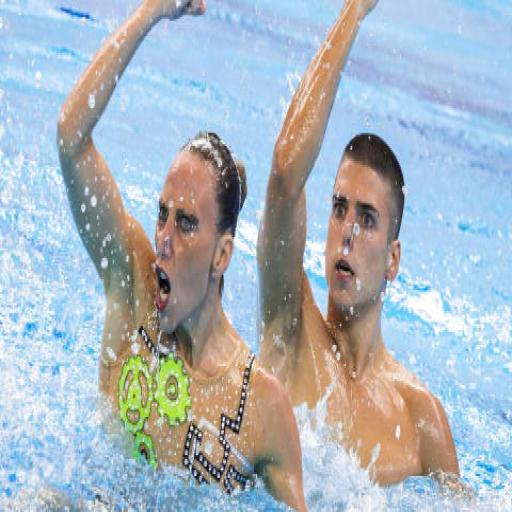swimming: (54, 0, 310, 510), (254, 0, 463, 501)
